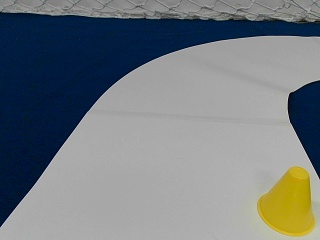cone: (257, 167, 315, 235)
